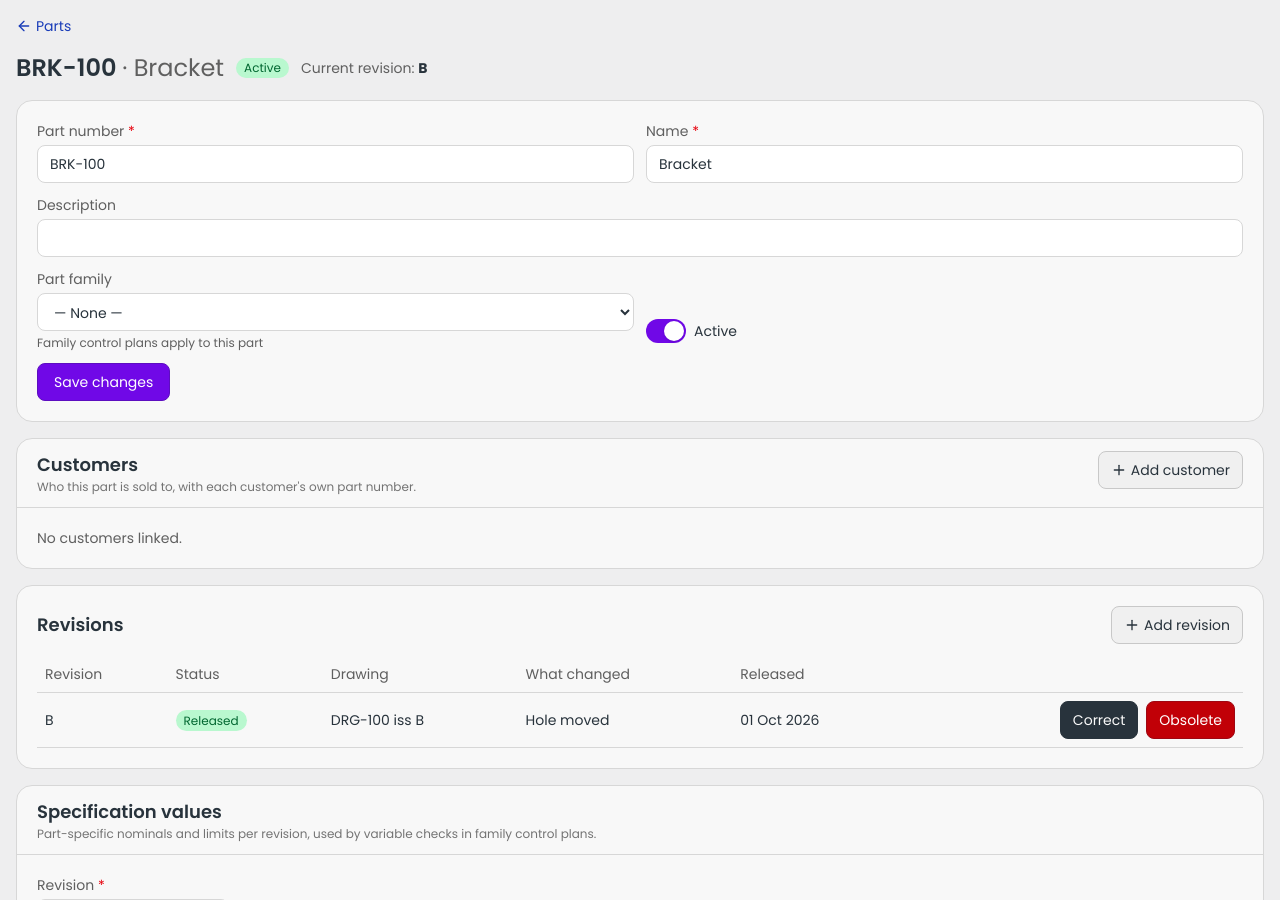
it: starting a correction › offers Correct on the current released revision, explains what it does and needs a reason
Later steps or results of the test are not shown.
Step 1. Click the button with aria-label "Correct revision B" → (1099, 720), box x1=1060 y1=701 x2=1138 y2=739
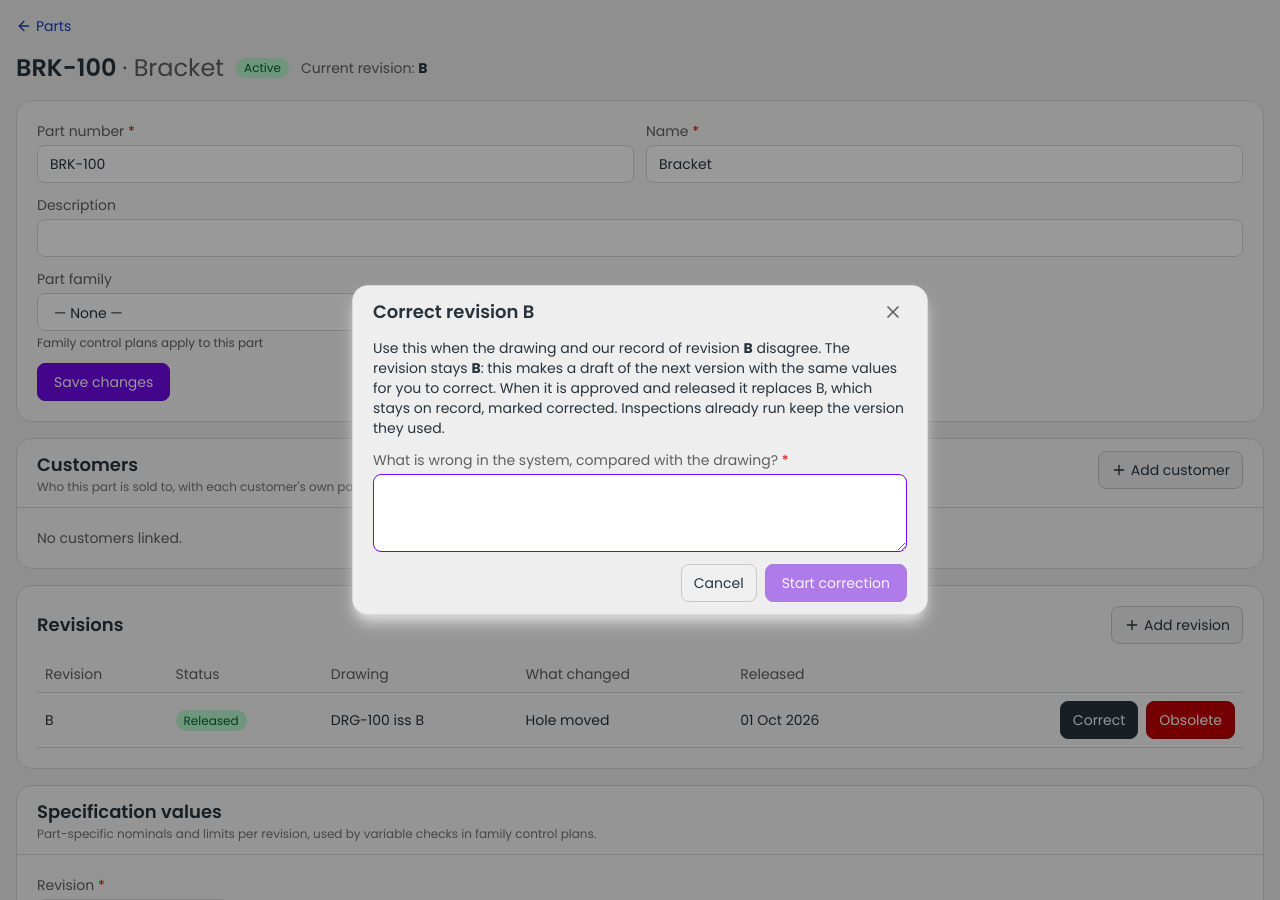
Expected: the text "The revision stays" is shown, x1=373 y1=338 x2=850 y2=378
Expected: the button "Start correction" is disabled, x1=765 y1=564 x2=907 y2=602
